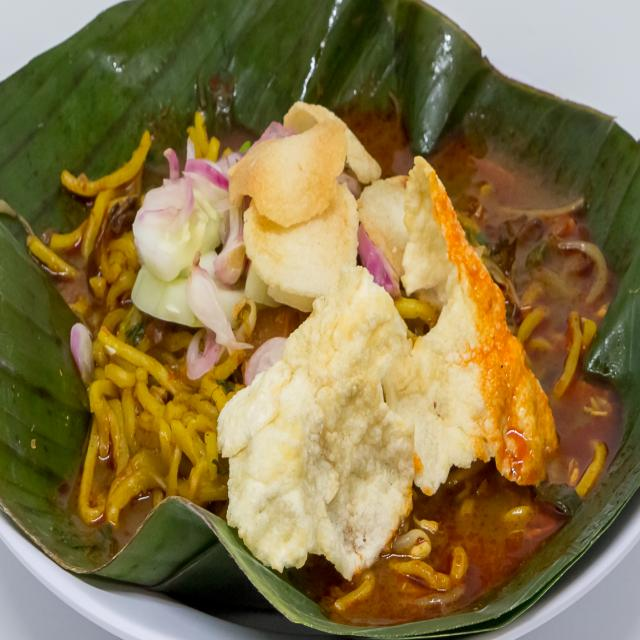Mie-Aceh: (28, 97, 606, 610)
